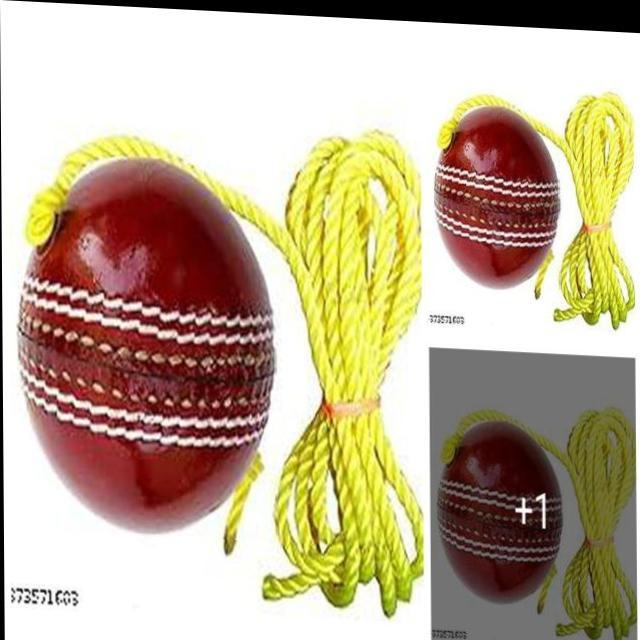cricket ball: (17, 157, 275, 535), (434, 101, 559, 285)
